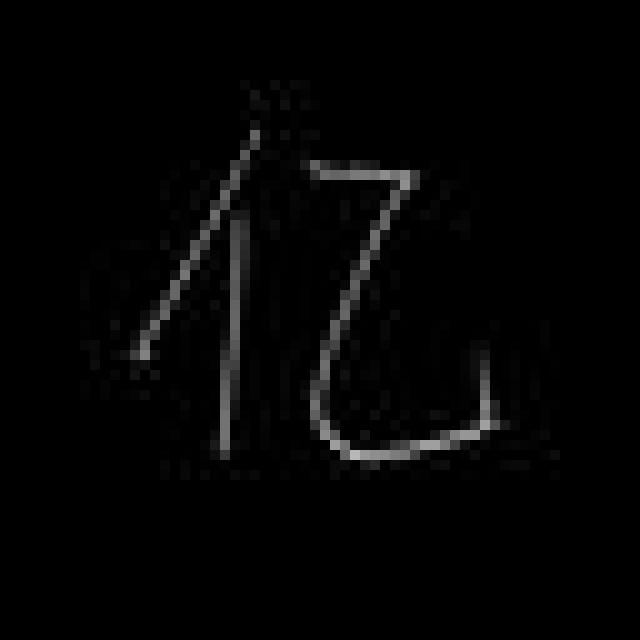100000 -a hundred thousand-: (127, 110, 508, 477)
